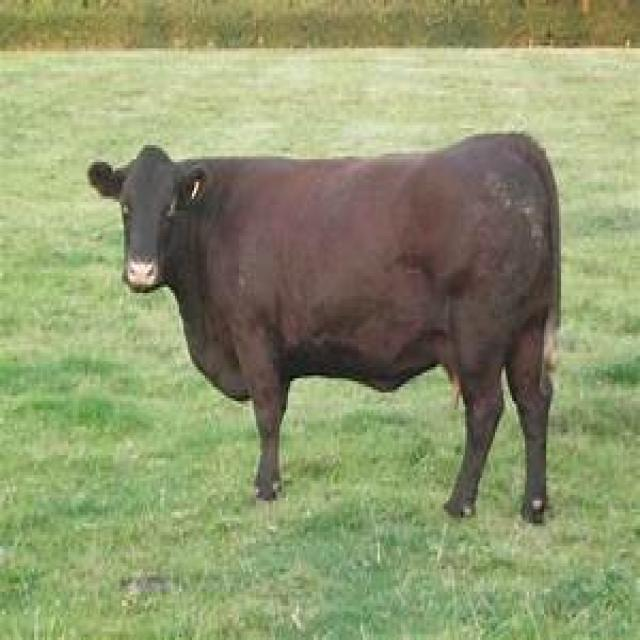cow: (85, 134, 561, 529)
